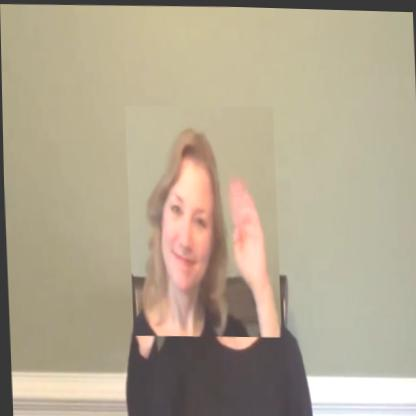Hello: (124, 102, 279, 337)
